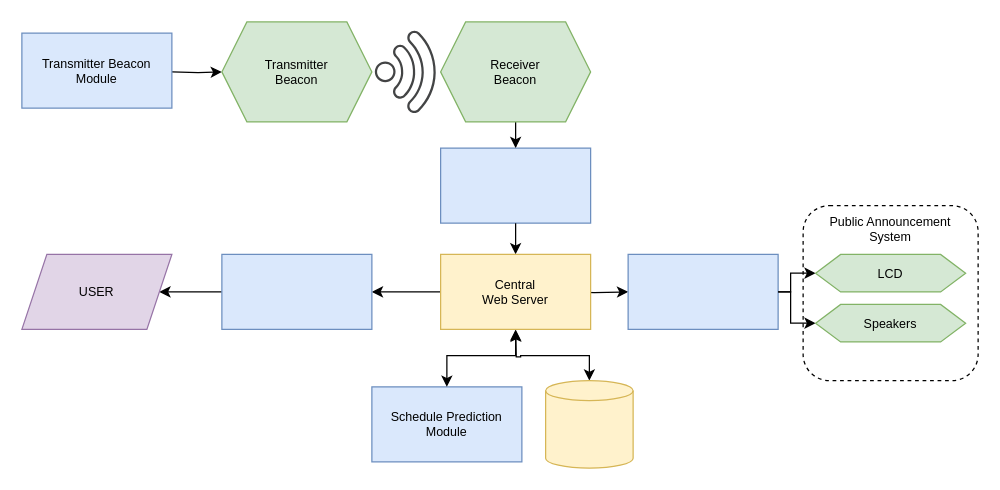
The diagram is 1000 pixels wide and 490 high, and some of its shapes have lost their labels. The shapes that lost their labels are listed below. From the top down, each one's box as (x1, y1, x2, y2) in pixels, then its label:
(439, 147, 591, 223): Receiver Beacon Module
(221, 253, 372, 329): Web Interface
(627, 253, 778, 329): Advance Intimation Module
(544, 379, 633, 468): Central Database
